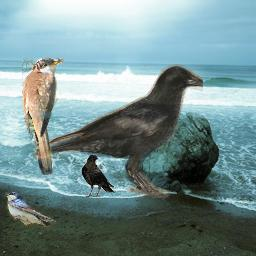Crow: (33, 64, 203, 198), (81, 154, 115, 197)
Cuckoo: (22, 58, 64, 175)
Swallow: (5, 192, 56, 230)
